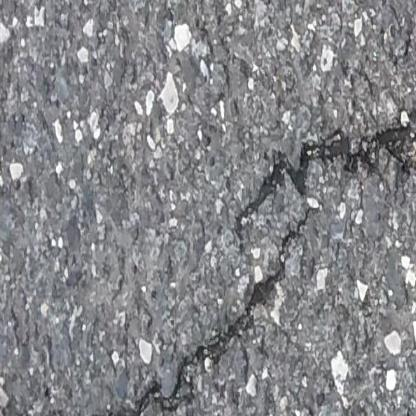Cracks: (0, 208, 317, 416), (232, 107, 416, 257)
